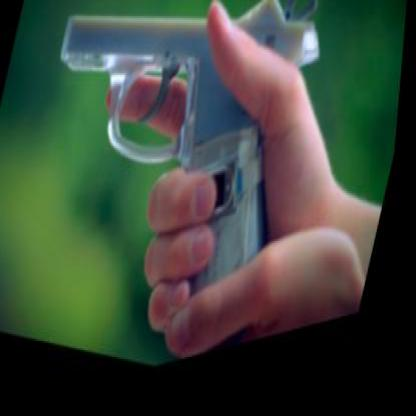pistol: (0, 0, 349, 407)
